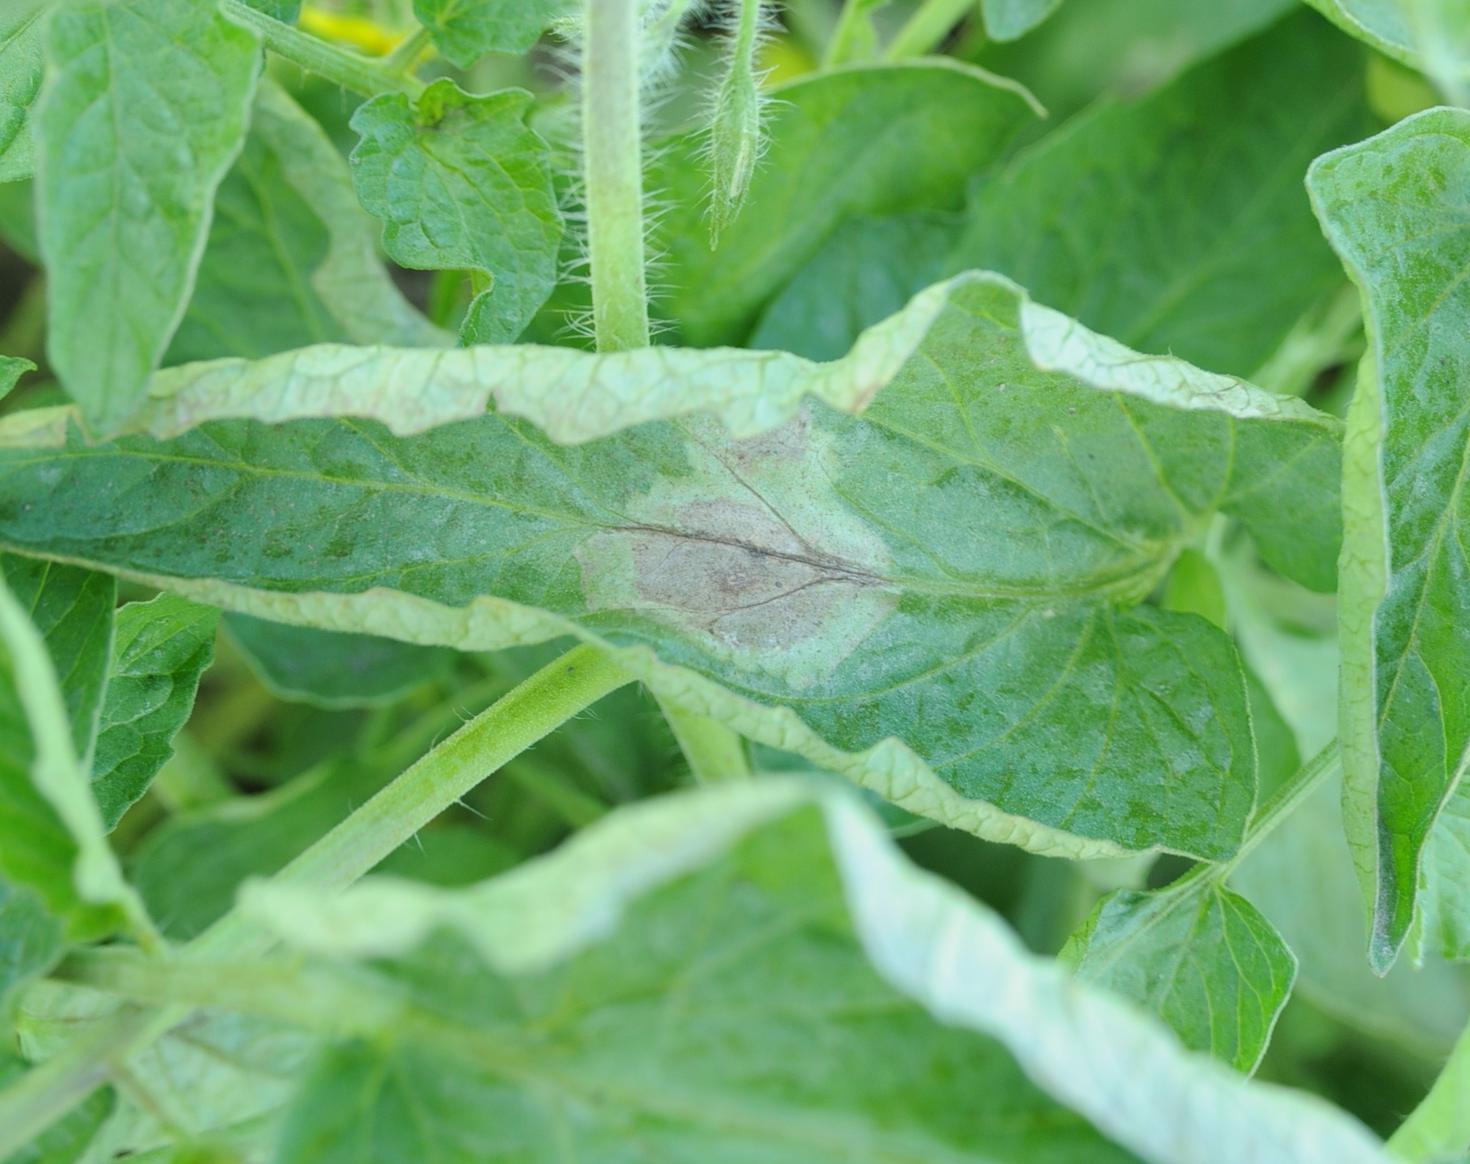Tomato leaf late blight: (0, 328, 1296, 843)
